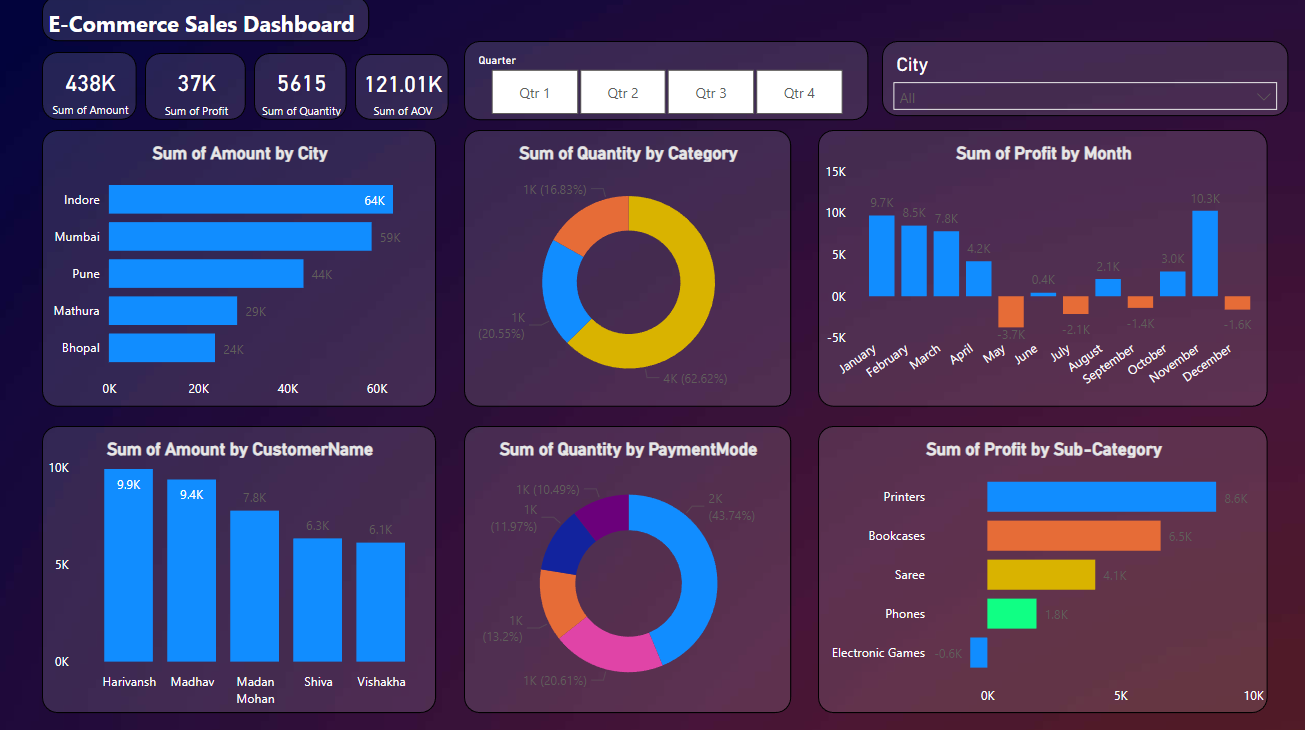

What the dashboard file says about the page in this screenshot:
{"tool":"powerbi","page":{"name":"Page 1","canvas":[1280,720],"ordinal":0},"visuals":[{"type":"textbox","box":[43.7,0,317.8,43.7],"z":0},{"type":"columnChart","fields":{"Category":["Orders.Order Date.Variation.Date Hierarchy.Month"],"Y":["Details.Profit"]},"box":[797.9,130.2,437.4,269.2],"z":1000},{"type":"barChart","fields":{"Y":["Details.Profit"],"Category":["Details.Sub-Category"]},"box":[797.9,417.9,437.4,278.9],"z":2000},{"type":"donutChart","fields":{"Y":["Details.Quantity"],"Category":["Details.Category"]},"box":[453.9,130.2,317.8,269.2],"z":3000},{"type":"donutChart","fields":{"Category":["Details.PaymentMode"],"Y":["Details.Quantity"]},"box":[453.9,417.9,317.8,278.9],"z":4000},{"type":"clusteredBarChart","fields":{"Category":["Orders.City"],"Y":["Details.Amount"]},"box":[43.7,130.2,382.9,269.2],"z":5000},{"type":"card","fields":{"Values":["Details.Amount"]},"box":[43.7,54.4,92.3,66.1],"z":6000},{"type":"columnChart","fields":{"Category":["Orders.CustomerName"],"Y":["Details.Amount"]},"box":[44,418,383,279],"z":7000},{"type":"card","fields":{"Values":["Details.Profit"]},"box":[143.8,55.4,98.2,65.1],"z":8000},{"type":"card","fields":{"Values":["Details.Quantity"]},"box":[249.8,55.4,90.4,65.1],"z":9000},{"type":"card","fields":{"Values":["Details.AOV"]},"box":[347.9,56.4,91.4,64.1],"z":10000},{"type":"slicer","fields":{"Values":["Orders.Order Date.Variation.Date Hierarchy.Quarter"]},"box":[453.9,43.7,392.6,76.8],"z":10001},{"type":"slicer","fields":{"Values":["Orders.City"]},"box":[860.1,43.7,394.6,72.9],"z":10002}]}

Visuals, with their boxes in screenshot pixels (x1, y1, x2, y2), scaled from the page's 1280x720 canvas onto the 1305x730 screenshot:
textbox: 45, 0, 369, 44
columnChart - Orders.Order Date.Variation.Date Hierarchy.Month x Details.Profit: 813, 132, 1259, 405
barChart - Details.Profit x Details.Sub-Category: 813, 424, 1259, 706
donutChart - Details.Quantity x Details.Category: 463, 132, 787, 405
donutChart - Details.PaymentMode x Details.Quantity: 463, 424, 787, 706
clusteredBarChart - Orders.City x Details.Amount: 45, 132, 435, 405
card - Details.Amount: 45, 55, 139, 122
columnChart - Orders.CustomerName x Details.Amount: 45, 424, 435, 707
card - Details.Profit: 147, 56, 247, 122
card - Details.Quantity: 255, 56, 347, 122
card - Details.AOV: 355, 57, 448, 122
slicer - Orders.Order Date.Variation.Date Hierarchy.Quarter: 463, 44, 863, 122
slicer - Orders.City: 877, 44, 1279, 118
